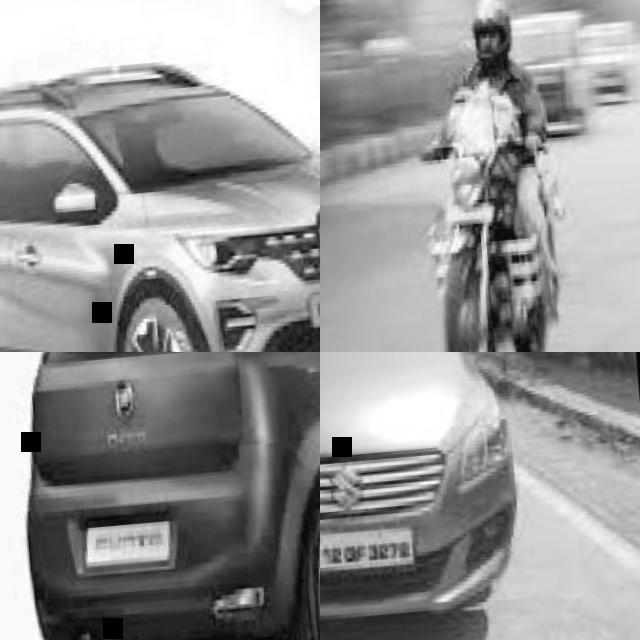car: (1, 4, 318, 355), (25, 339, 320, 639)
